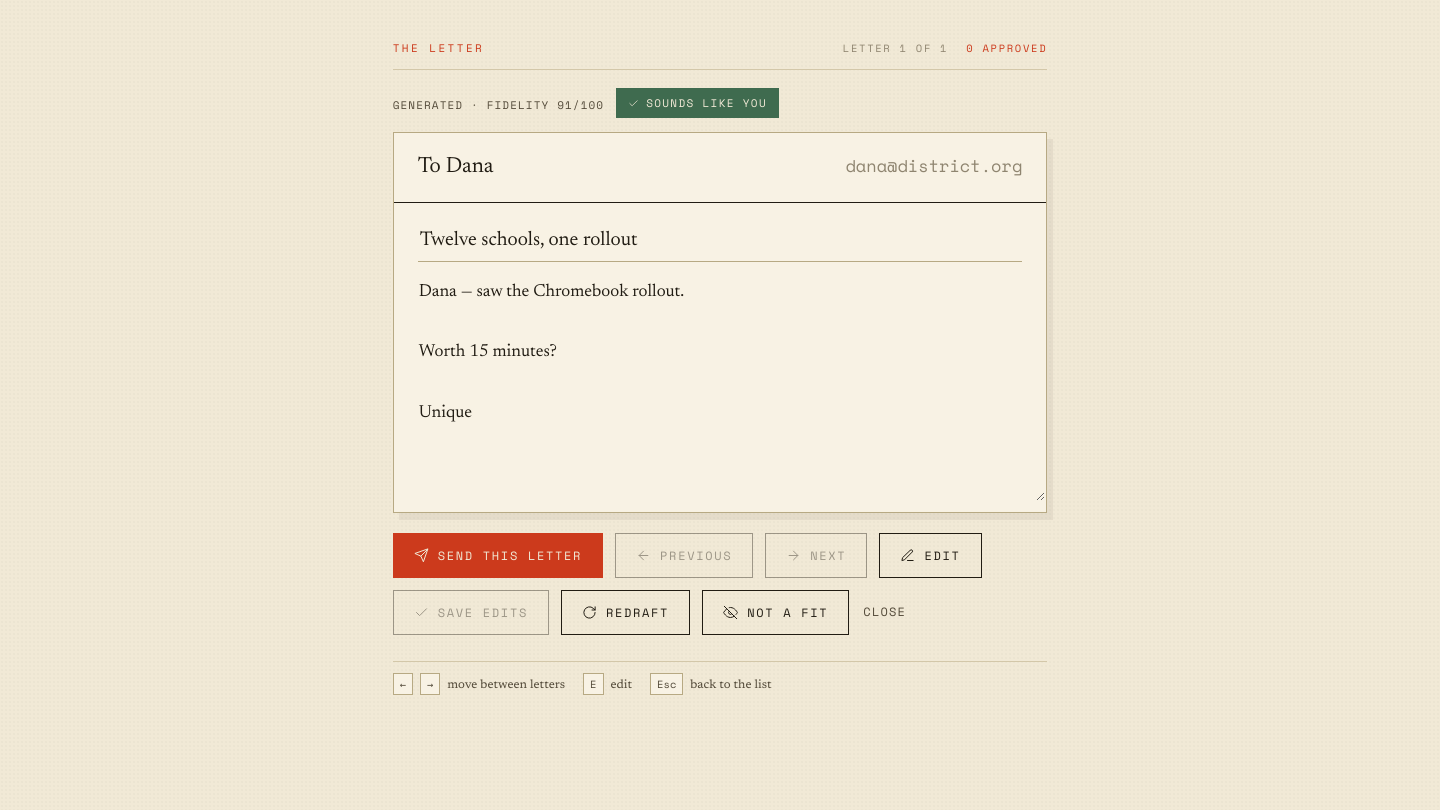
Test: rejecting a letter › keeps the letter when the server refuses
Click the button "Not a fit".
click(776, 612)  # box [702, 590, 849, 635]
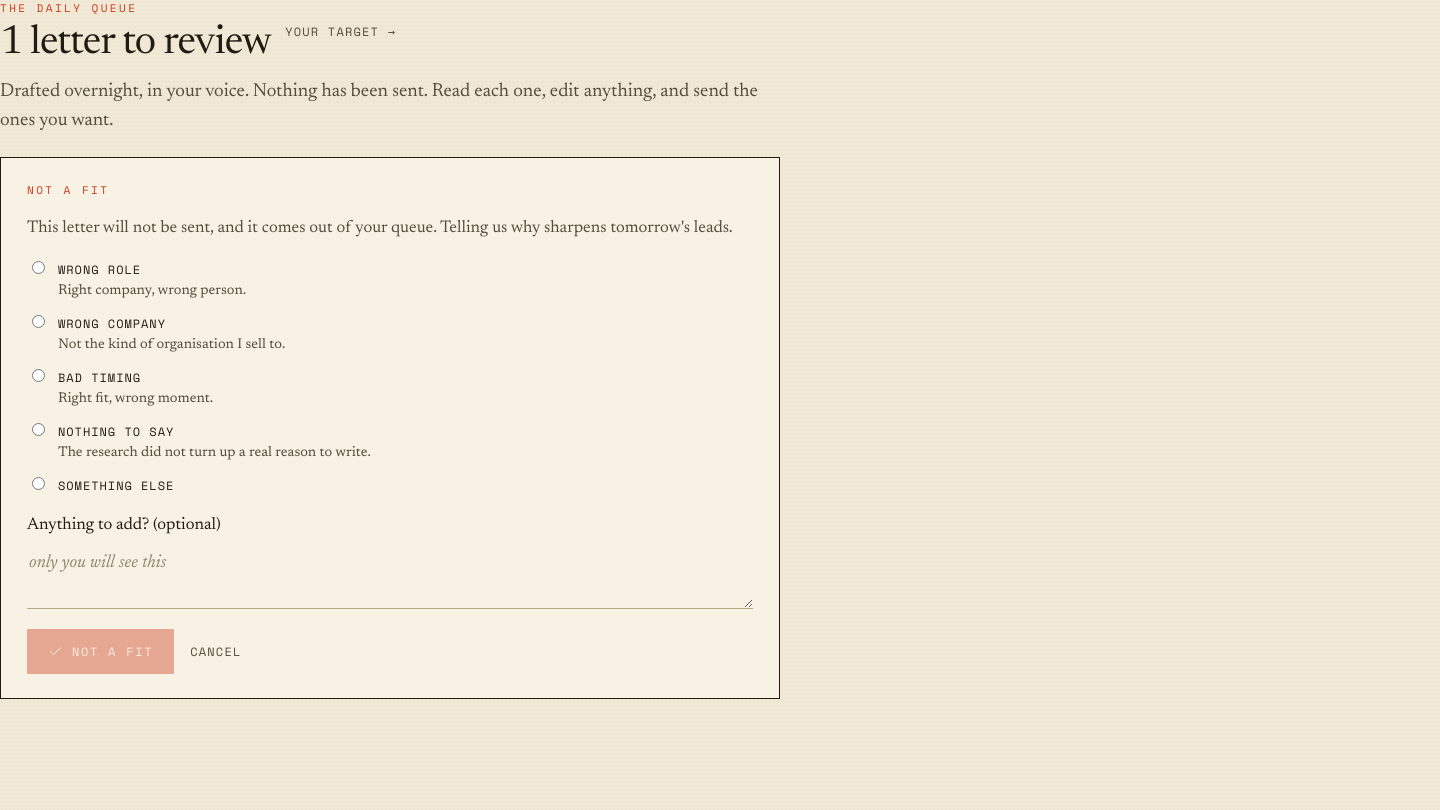
Click the radio button labelled "Bad timing Right fit, wrong moment.".
click(38, 376)  # box [32, 369, 45, 382]
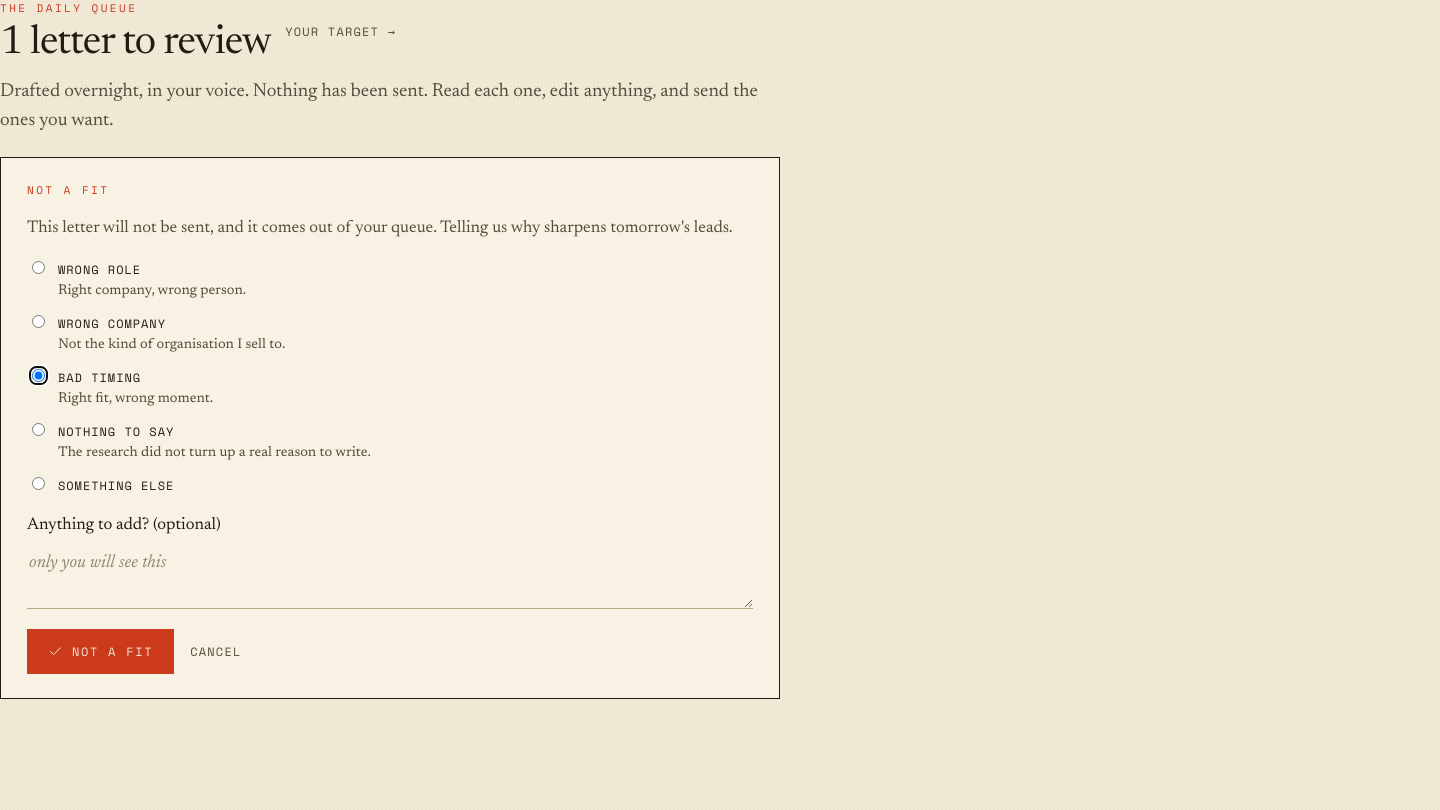
Click the button "Not a fit".
click(101, 652)  # box [27, 629, 174, 674]
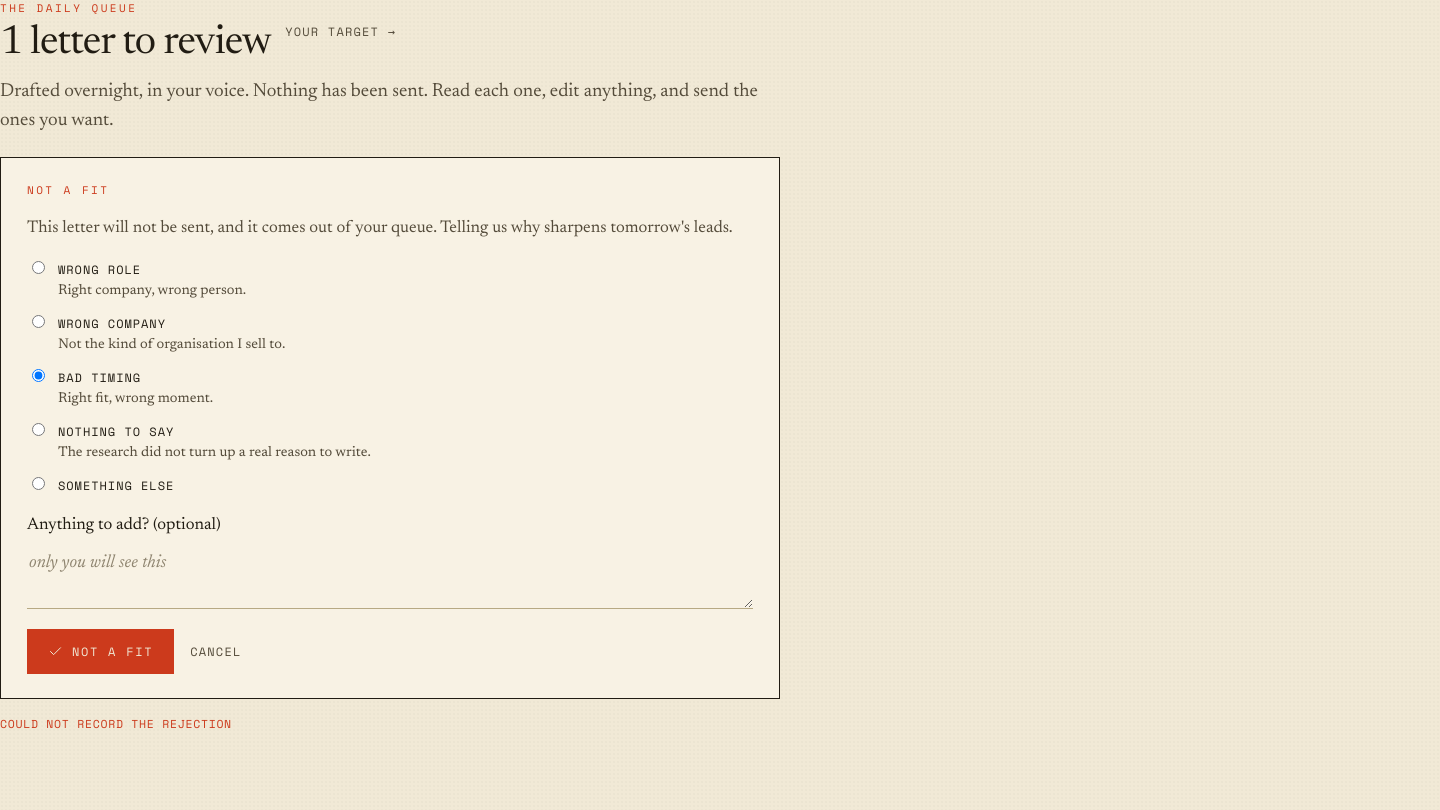
Expected: the message shows "Could not record", [0, 715, 232, 732]
